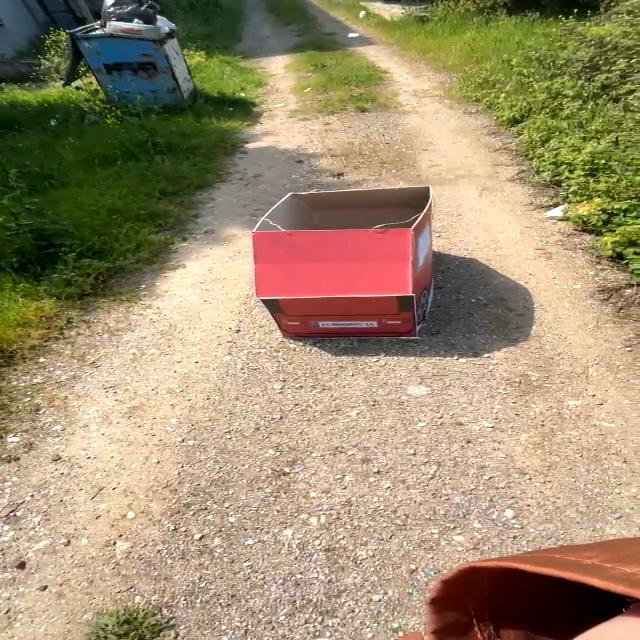red_car: (206, 178, 469, 349)
